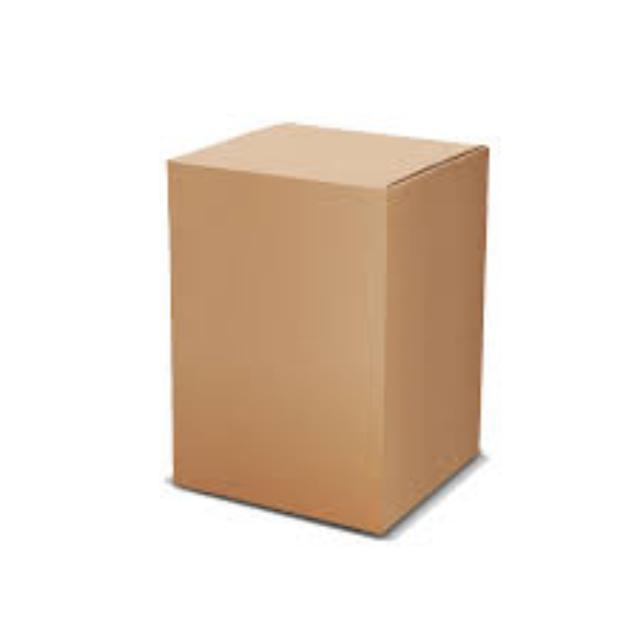cardboard paper: (165, 122, 484, 529)
